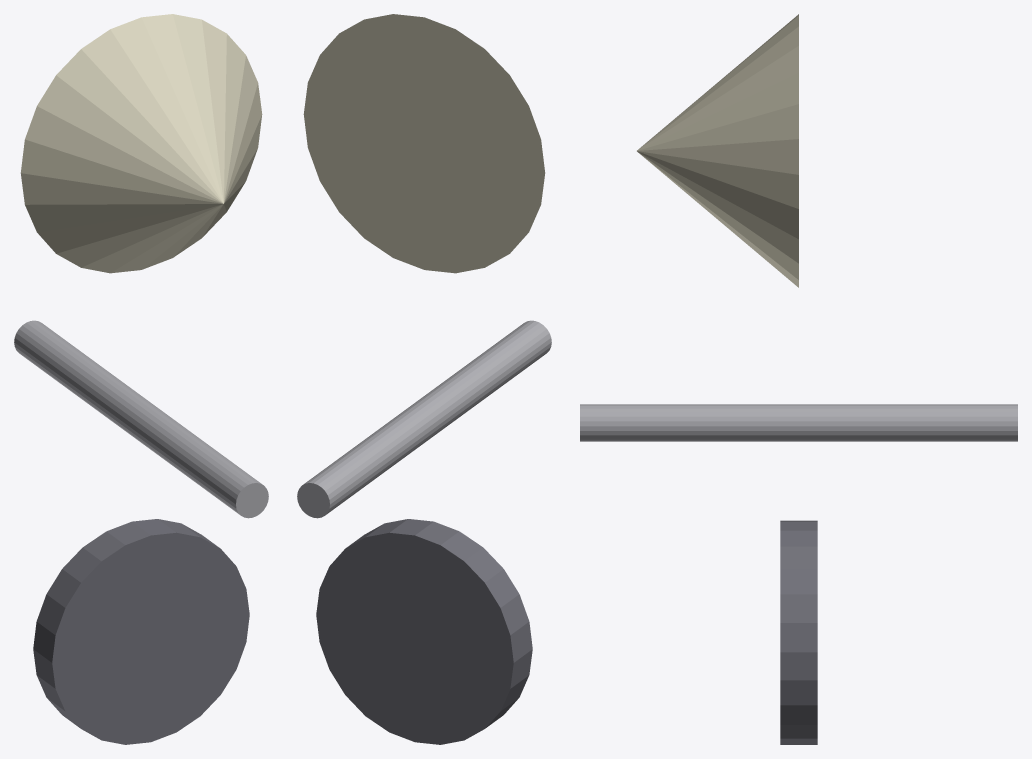
File: lamp.glb
The picture shows the model from 3 angles, left to right: view 1: azimuth 30°, elevation 25°; view 2: azimuth 150°, elevation 25°; view 3: azimuth 270°, elevation 25°; orthographic projection.
Parts seen in each view (by area): view 1: world; view 2: world; view 3: world.
Part boxes in pixels (bbox=[...]): world: bbox=[14, 14, 268, 744]; world: bbox=[297, 14, 551, 744]; world: bbox=[580, 14, 1017, 744].
Bounding box in the file's own units: 0.22 × 0.625 × 0.35.
